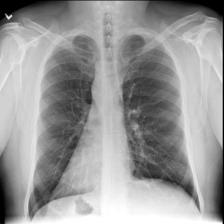normal: (26, 29, 202, 224)
